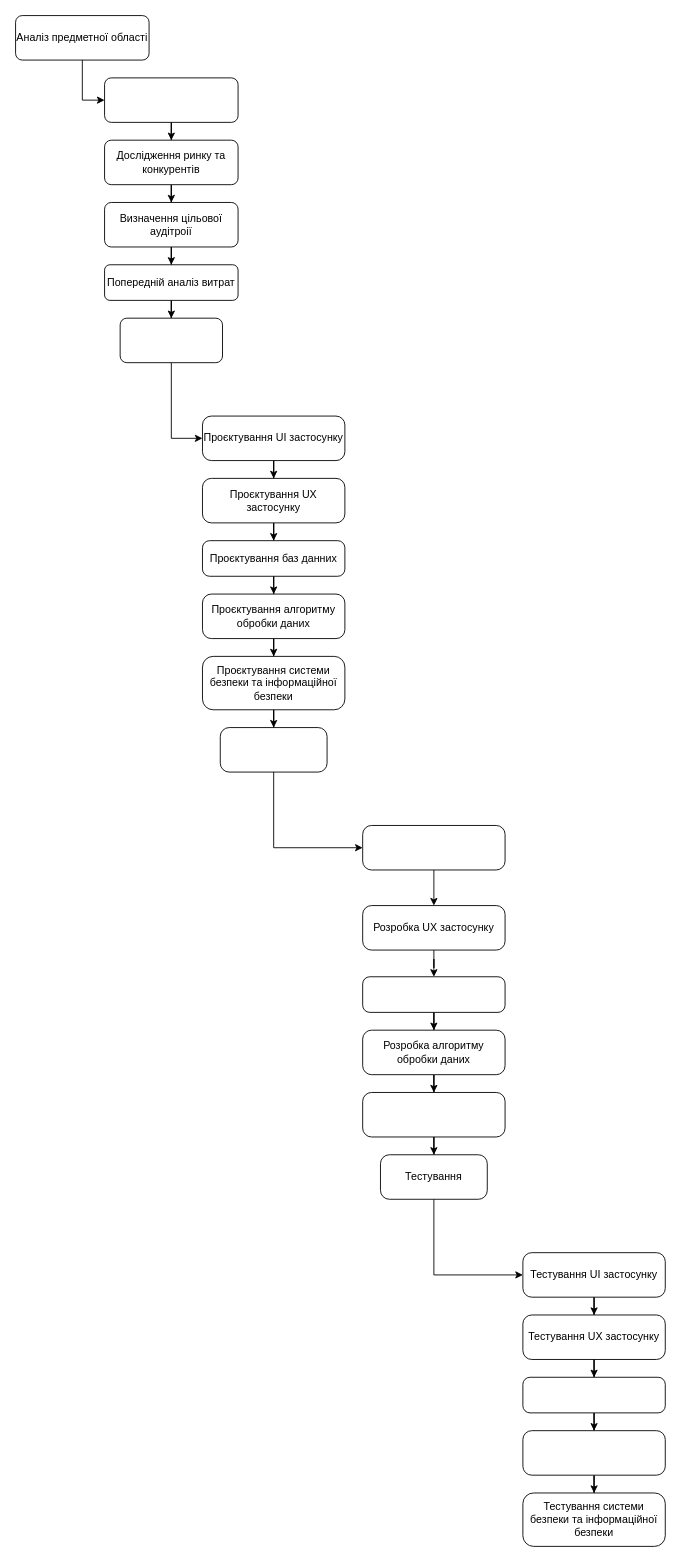
This 681x1562 diagram has some shape labels left out. The shapes that lost their labels are listed below. From the top down, each one's box as (x1, y1, x2, y2) in pixels, then its label:
(104, 77, 238, 122): Визначення цілей та задач
(119, 317, 222, 363): Проєктування
(219, 727, 327, 772): Розробка
(362, 825, 505, 870): Розробка UI застосунку
(362, 976, 505, 1012): Розробка баз данних
(362, 1092, 505, 1137): Розробка системи безпеки та інформаційної безпеки
(522, 1376, 665, 1413): Тестування баз данних
(522, 1430, 665, 1475): Тестування алгоритму обробки даних
